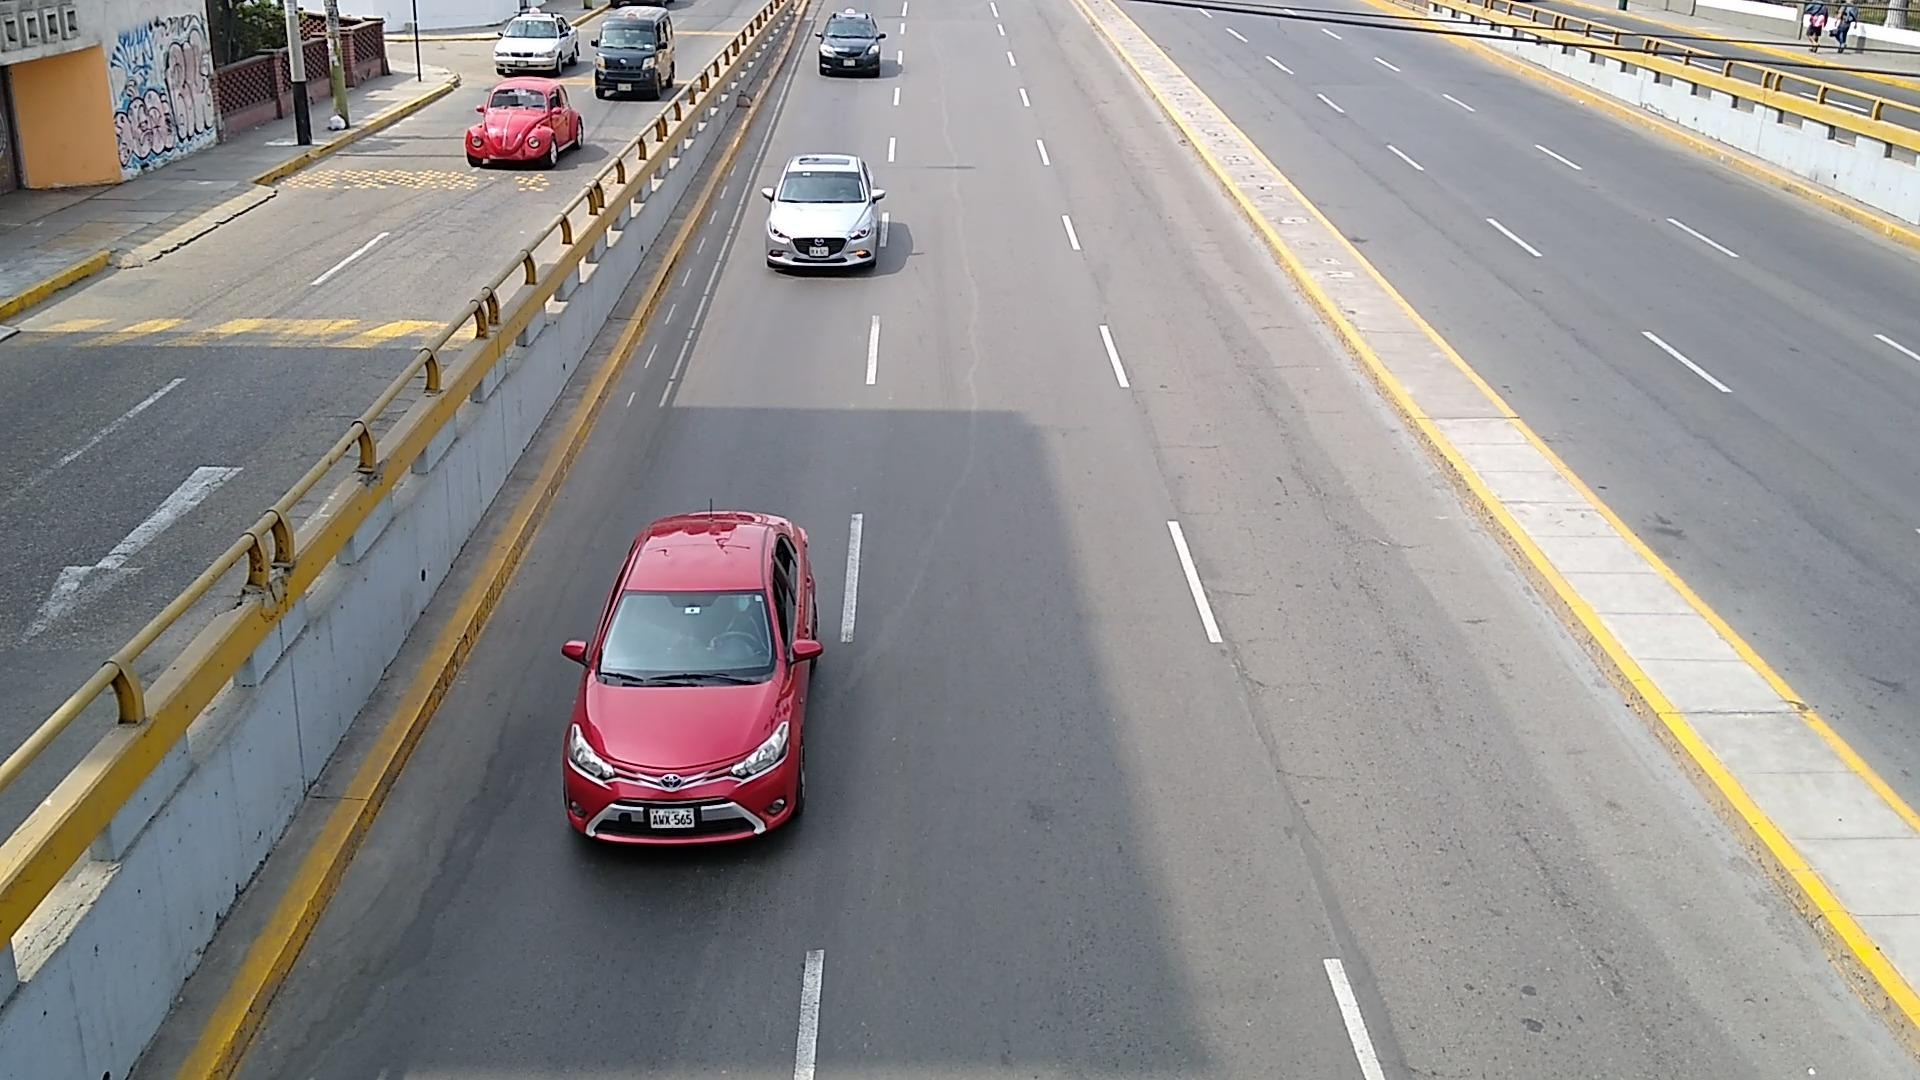car: (563, 510, 822, 844), (761, 154, 885, 270), (465, 79, 585, 167), (495, 12, 582, 75), (818, 8, 885, 73)
minivan: (592, 8, 675, 96)
